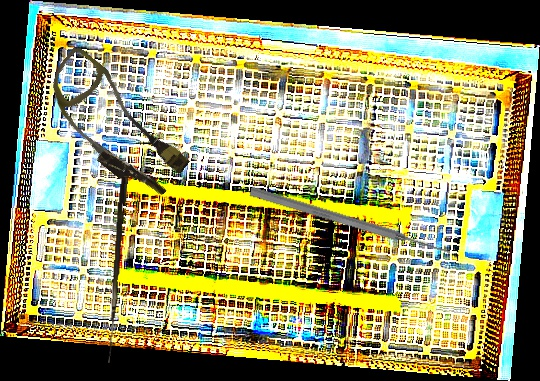Cannula: (27, 44, 203, 207)
Hook Surgical: (108, 176, 128, 364)
Pusher: (248, 184, 453, 260)
